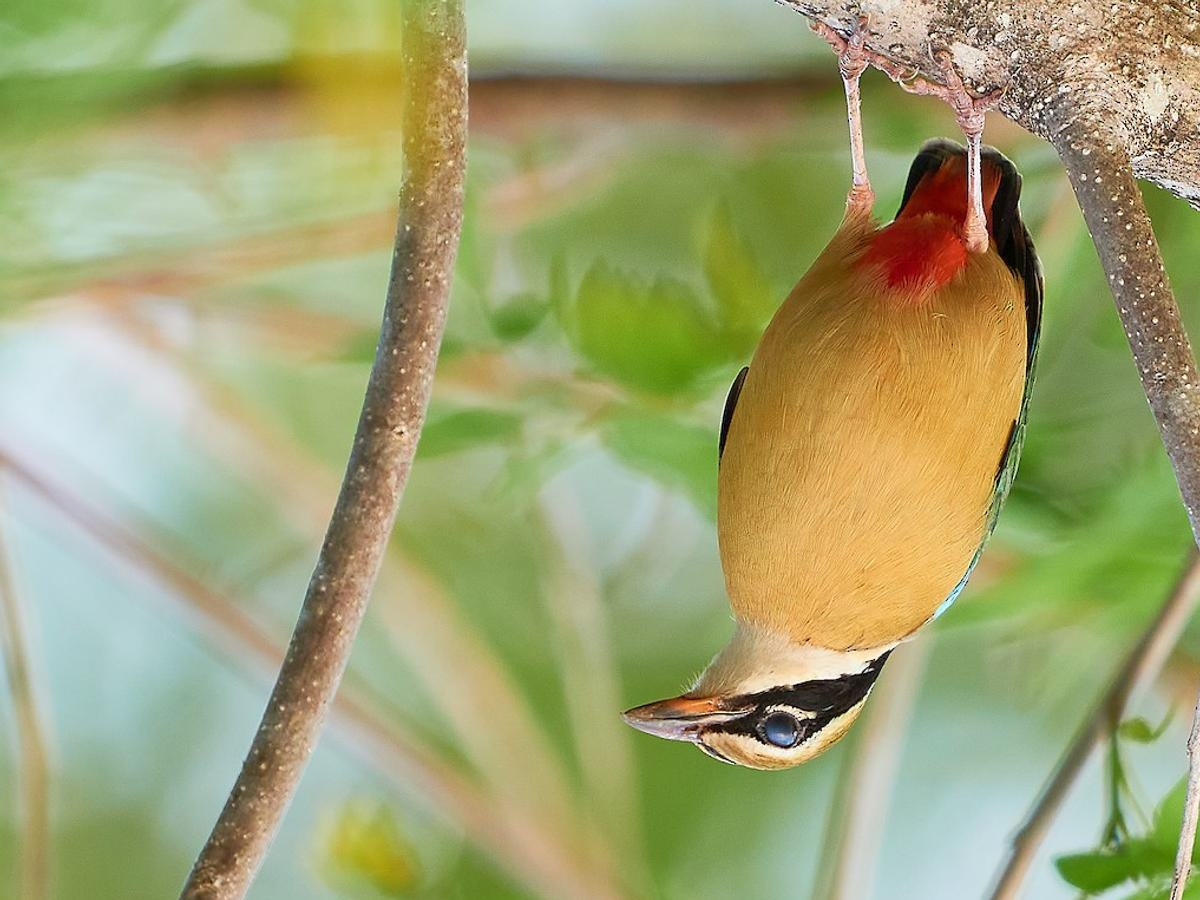pitta: (596, 77, 1030, 780)
